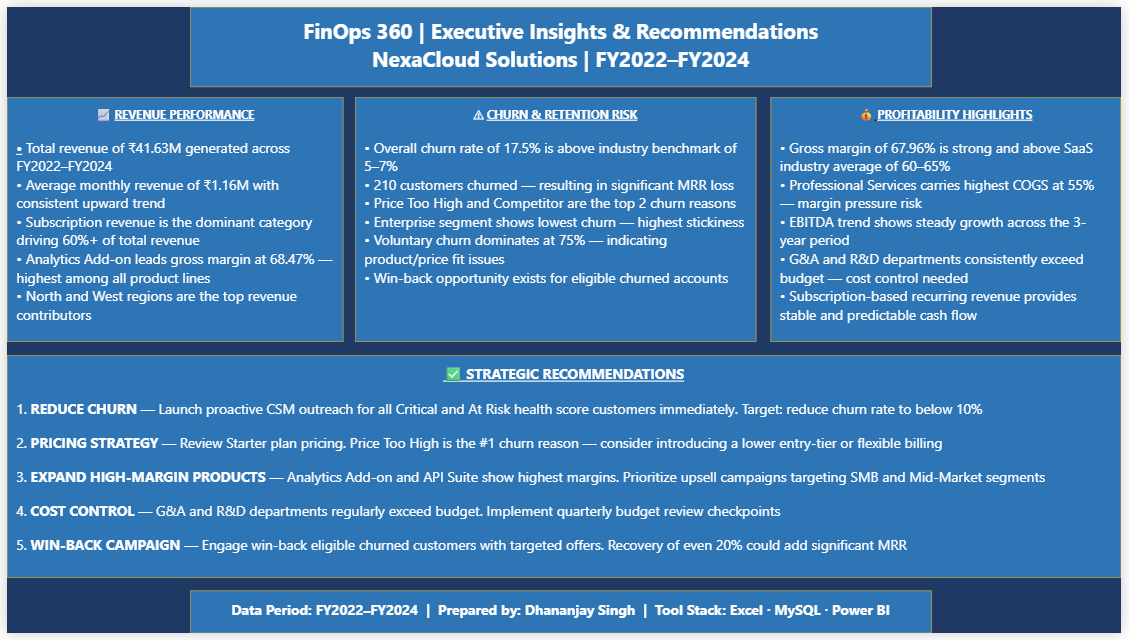

This screenshot's page, from the dashboard's own definition file:
{"tool":"powerbi","page":{"name":"Insights and Recommendations","canvas":[1280,720],"ordinal":4},"visuals":[{"type":"textbox","box":[210,0,852.6,92.3],"z":0},{"type":"textbox","box":[0,103.4,386.5,281.5],"z":1},{"type":"textbox","box":[400.8,103.4,461.3,281.5],"z":2},{"type":"textbox","box":[878,103.4,402.4,281.5],"z":3},{"type":"textbox","box":[0,399.2,1280.4,256.1],"z":4},{"type":"textbox","box":[210,671.2,852.6,49.3],"z":5}]}

Visuals, with their boxes in screenshot pixels (x1, y1, x2, y2), scaled from the page's 1280x720 canvas onto the 1129x640 screenshot:
textbox: bbox(185, 0, 937, 82)
textbox: bbox(0, 92, 341, 342)
textbox: bbox(354, 92, 760, 342)
textbox: bbox(774, 92, 1128, 342)
textbox: bbox(0, 355, 1128, 582)
textbox: bbox(185, 597, 937, 639)
